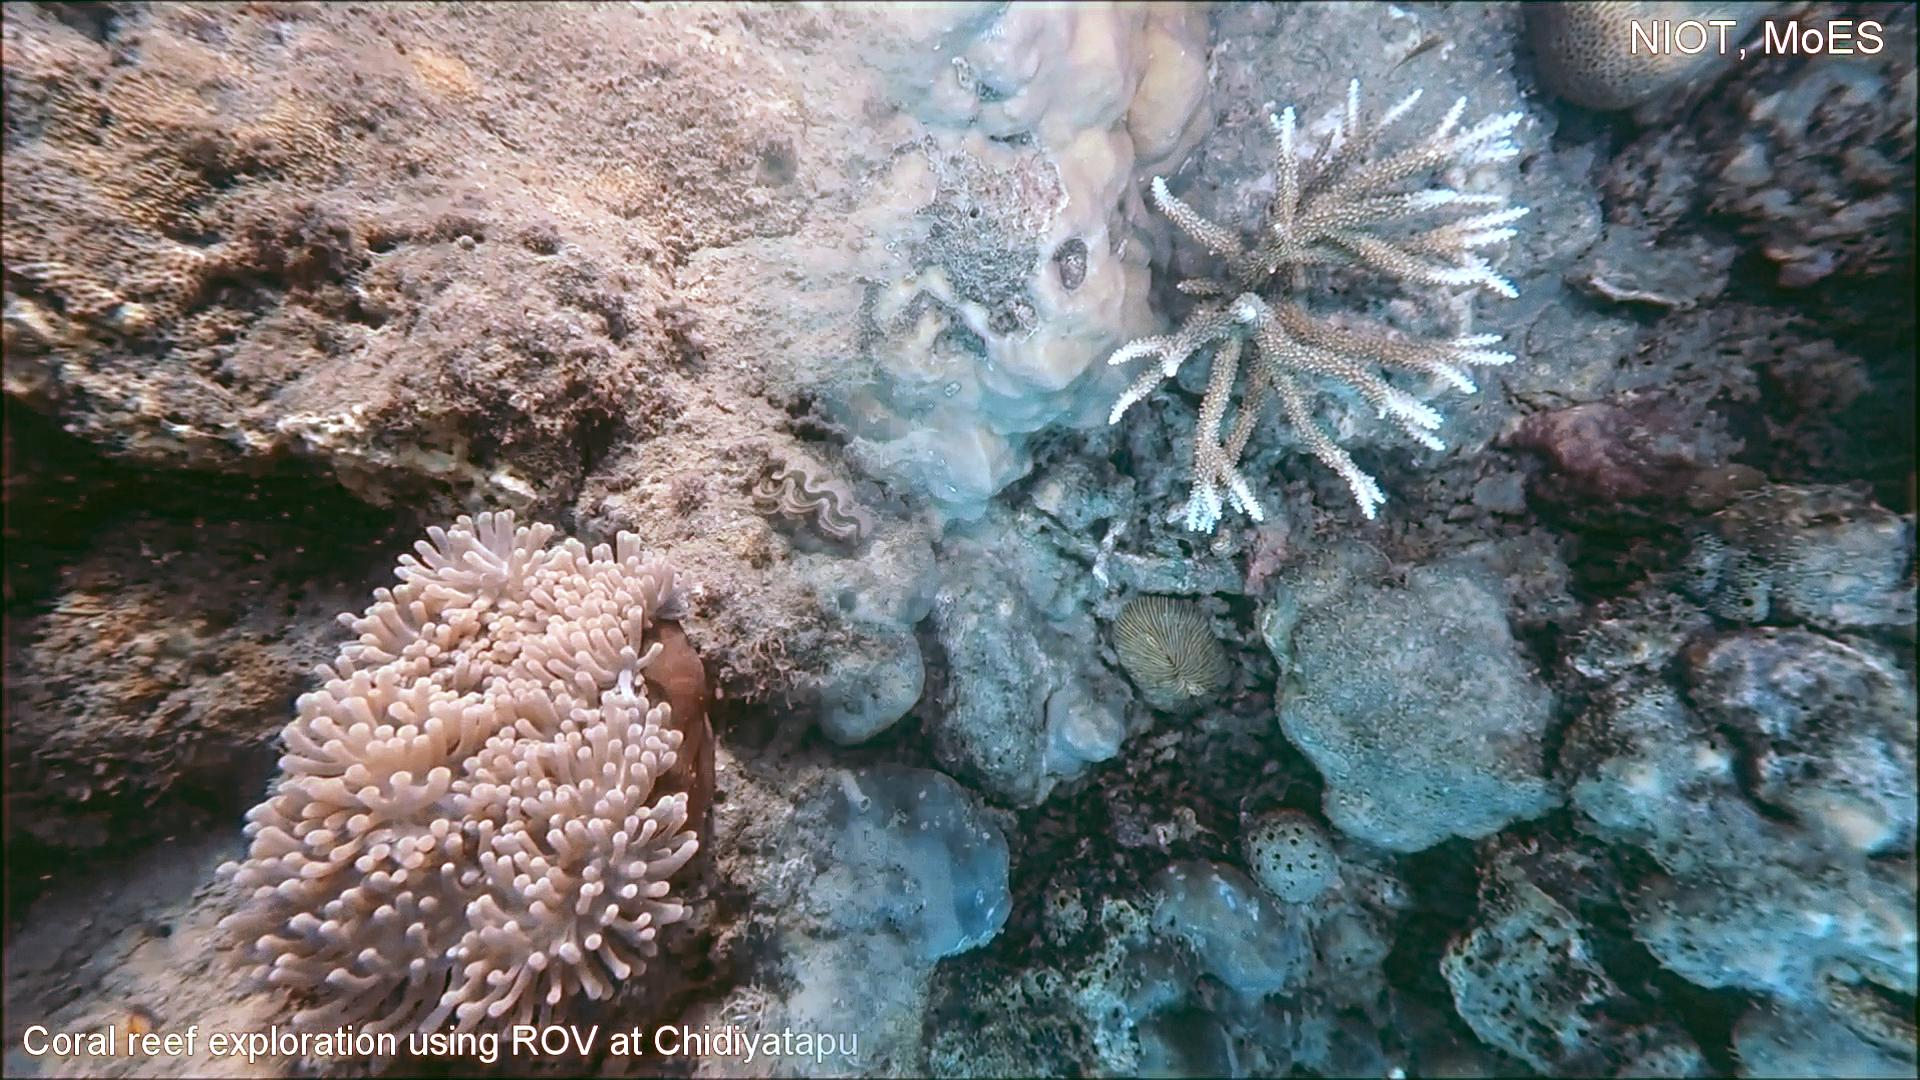Macrodactyla doreensis-Long tentacle Anemone: (224, 496, 713, 1075)
Tridacna Clam: (732, 442, 880, 560)
